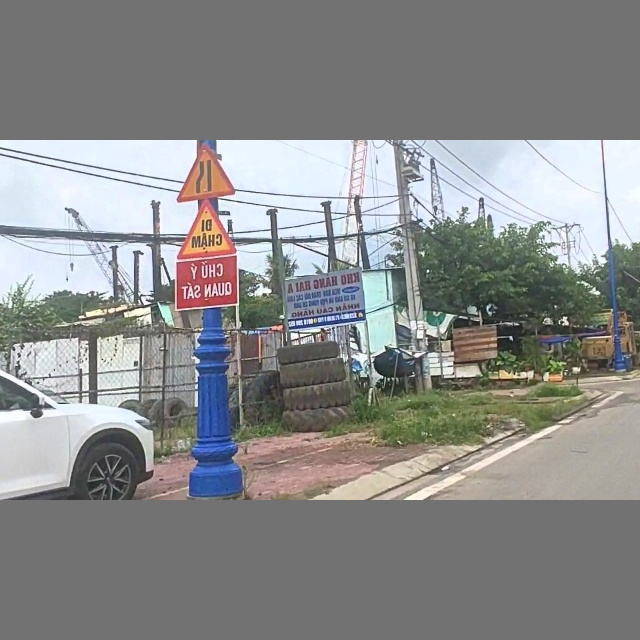W.203c: (175, 143, 235, 201)
W.245a: (175, 201, 235, 259)
